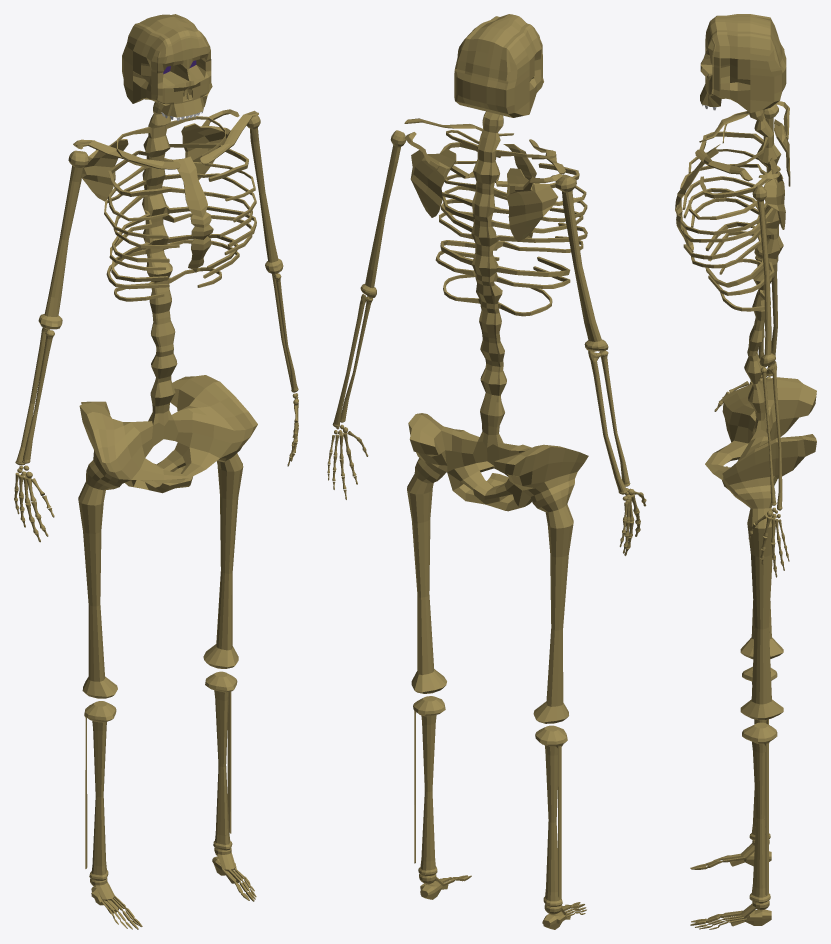
The model's file is squelette.fbx.
3 views of the same model, side by side, from view 1: azimuth 30°, elevation 25°; view 2: azimuth 150°, elevation 25°; view 3: azimuth 270°, elevation 25° (orthographic).
Parts seen in each view (by area): view 1: squelette.001; view 2: squelette.001; view 3: squelette.001.
Boxes of the visible parts, x1,y1,x2,y2 form: squelette.001: [14, 14, 298, 929]; squelette.001: [327, 14, 646, 929]; squelette.001: [675, 14, 816, 929].
Size of the model in its own units: 635 by 1838 by 269.
